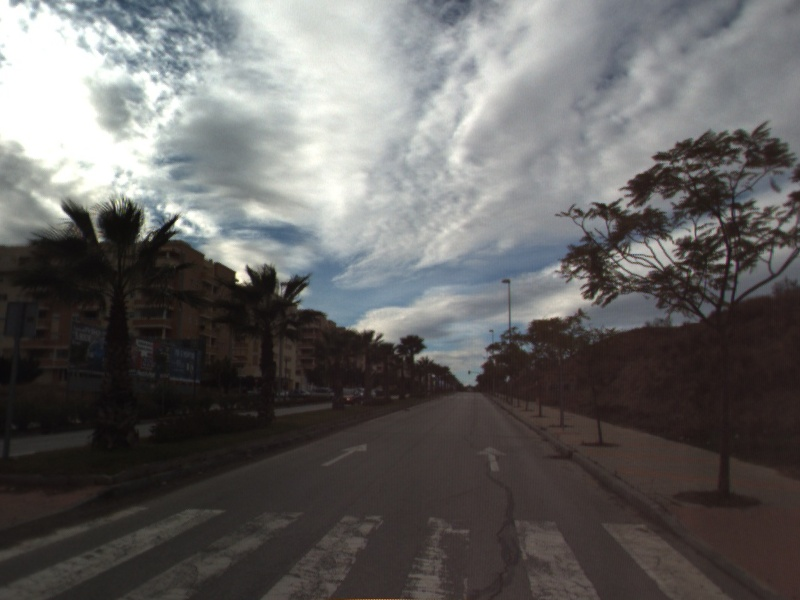STRAIGHT: (319, 441, 370, 468), (475, 444, 509, 473)
